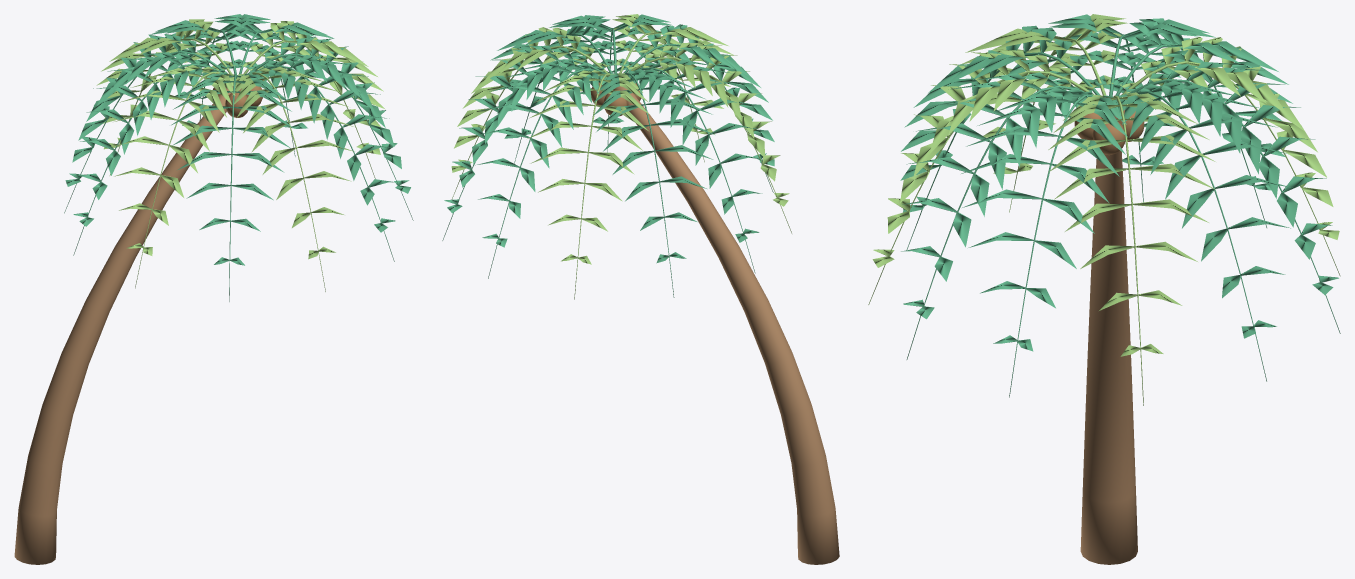
File: palm_lean.glb
3 views of the same model, side by side, from view 1: azimuth 30°, elevation 25°; view 2: azimuth 150°, elevation 25°; view 3: azimuth 270°, elevation 25° (orthographic). The views are drawn at different scales.
Visible parts, largest first — view 1: coconut-palm-leaning; view 2: coconut-palm-leaning; view 3: coconut-palm-leaning.
Boxes of the visible parts, x1=… form: coconut-palm-leaning: x1=14, y1=14, x2=413, y2=564; coconut-palm-leaning: x1=442, y1=14, x2=839, y2=564; coconut-palm-leaning: x1=868, y1=14, x2=1340, y2=564.
Bounding box in the file's own units: 5.52 × 6.46 × 4.45.
